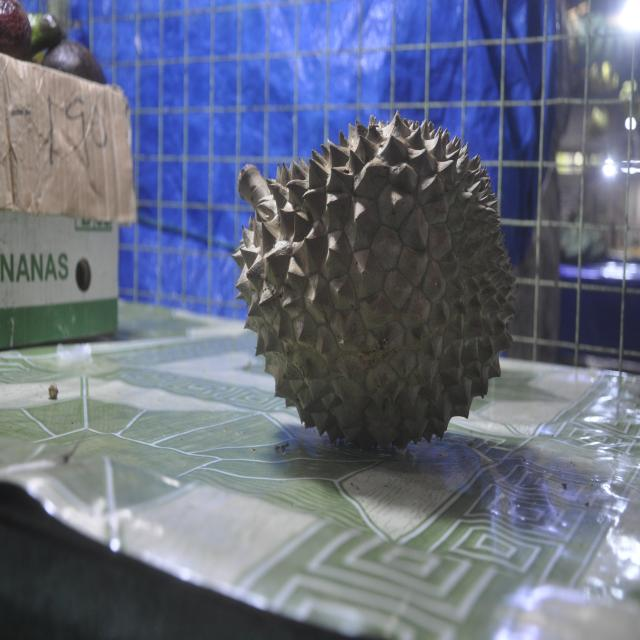mature: (234, 113, 515, 460)
